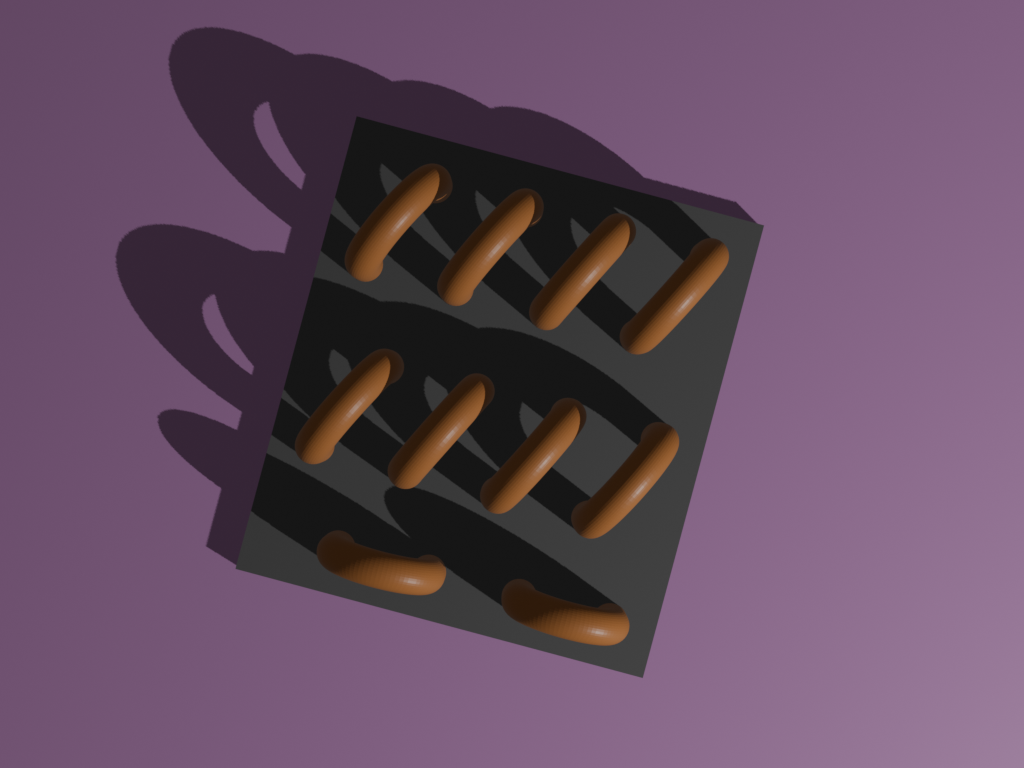return-bend: (276, 330, 417, 485), (371, 356, 511, 511), (561, 405, 701, 560), (421, 164, 561, 319), (465, 379, 605, 533), (608, 220, 748, 374), (512, 195, 652, 349), (328, 141, 468, 295), (482, 563, 649, 663), (299, 516, 466, 615)
